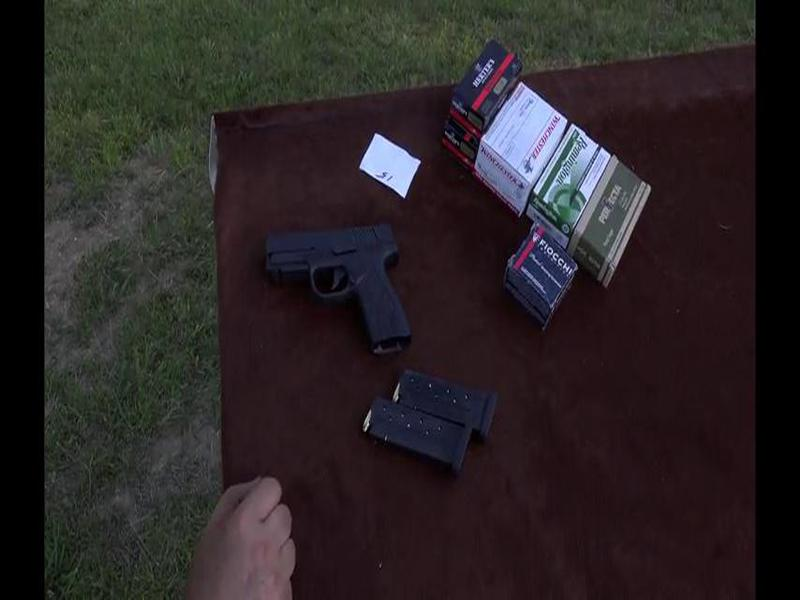Pistola: (264, 232, 443, 370)
